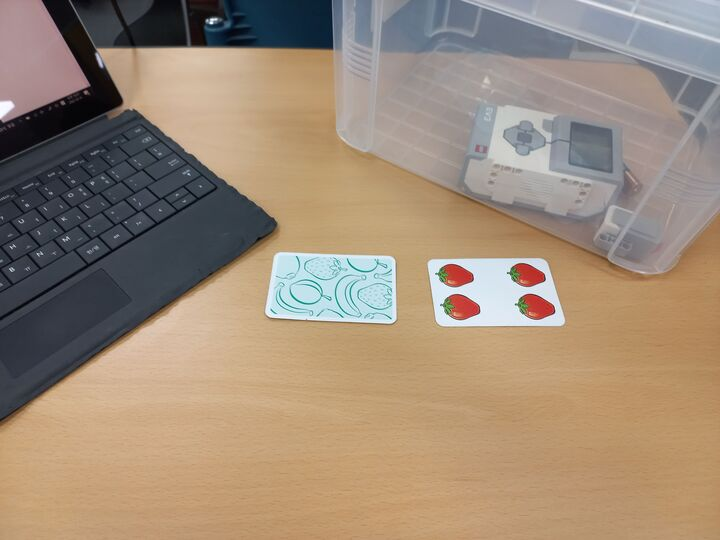strawberry4: (426, 256, 566, 328)
